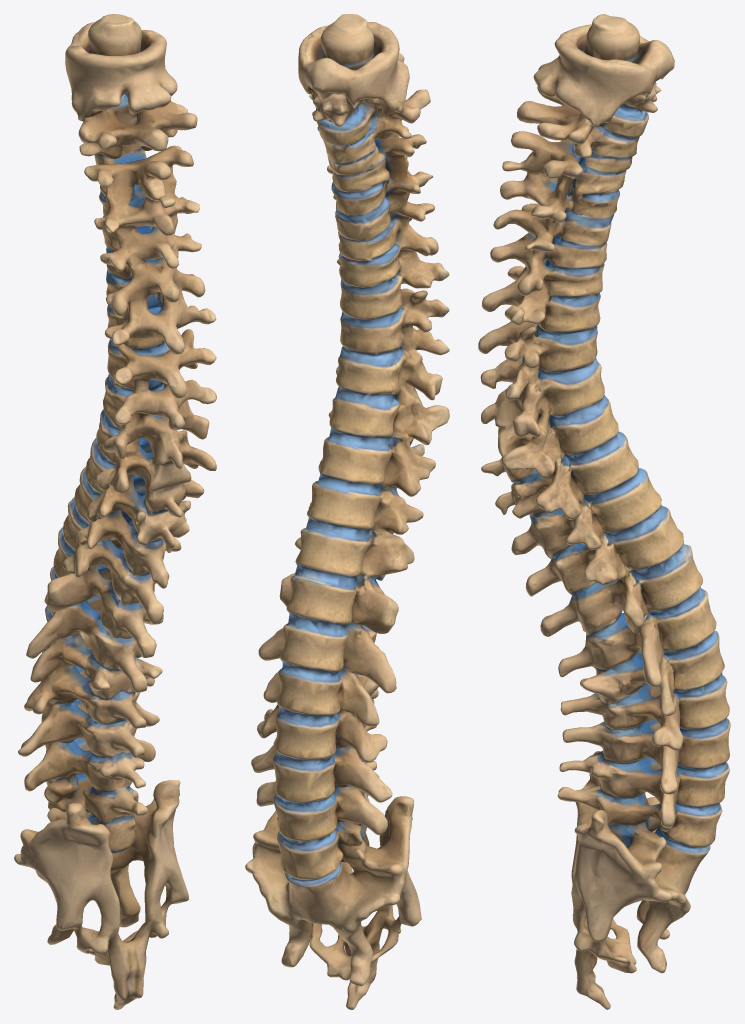
Rendered from spine.glb.
3 renders of one model, left to right at view 1: azimuth 30°, elevation 25°; view 2: azimuth 150°, elevation 25°; view 3: azimuth 270°, elevation 25°, orthographic.
Parts seen in each view (by area): view 1: tripo_node_ea24a7b8-f4c1-4451-beba-ee20df410fe5; view 2: tripo_node_ea24a7b8-f4c1-4451-beba-ee20df410fe5; view 3: tripo_node_ea24a7b8-f4c1-4451-beba-ee20df410fe5.
Boxes of the visible parts, x1,y1,x2,y2 form: tripo_node_ea24a7b8-f4c1-4451-beba-ee20df410fe5: (14,14,216,1009); tripo_node_ea24a7b8-f4c1-4451-beba-ee20df410fe5: (245,14,449,1009); tripo_node_ea24a7b8-f4c1-4451-beba-ee20df410fe5: (478,14,730,1009).
Size of the model in its own units: 0.1586 by 0.9996 by 0.2312.
1 material, 1 textured.
